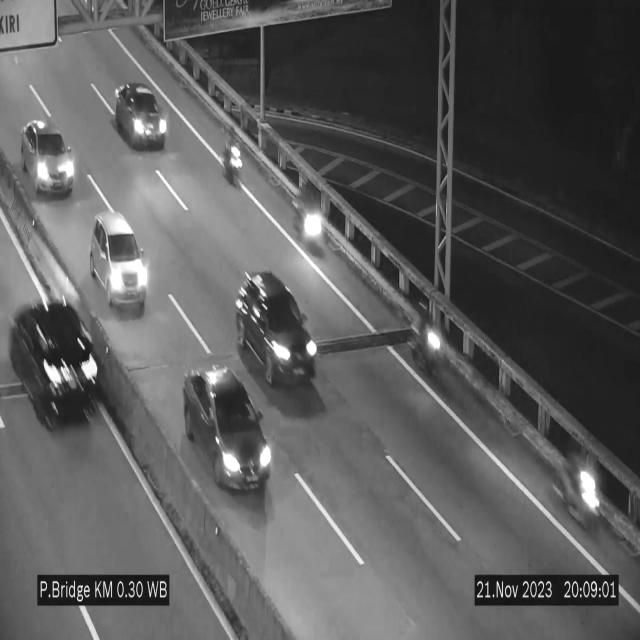Car: (0, 277, 112, 441), (183, 366, 272, 492), (237, 266, 317, 396), (90, 212, 148, 313), (22, 119, 74, 196), (115, 81, 167, 148)
Motorcycle: (567, 455, 605, 544), (412, 297, 442, 389), (296, 179, 320, 249), (220, 118, 243, 188)
